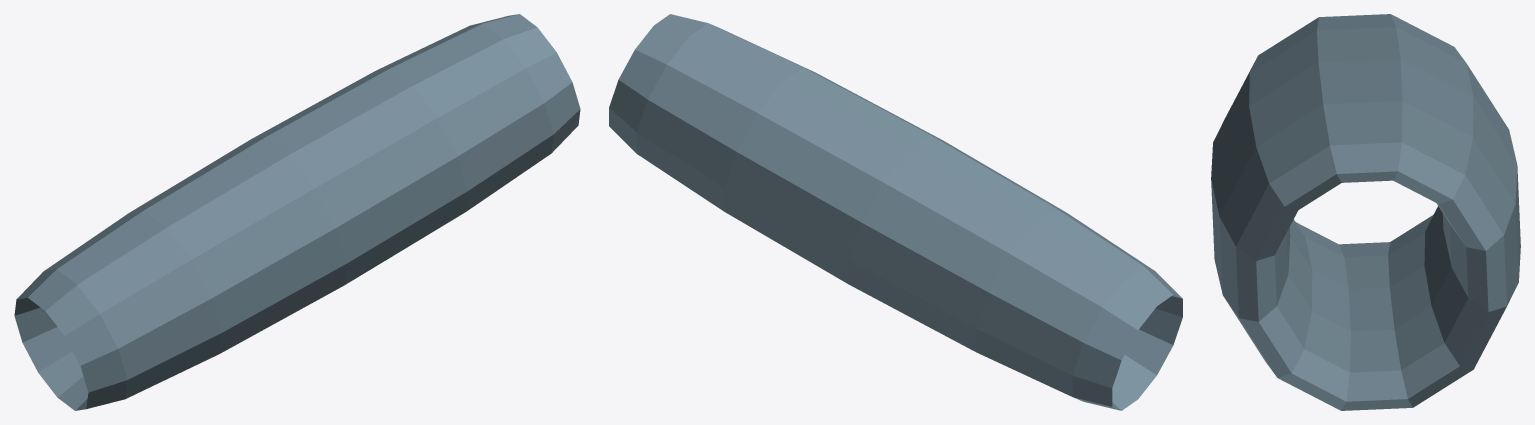
The model's file is astronaut_base_group276692338_lev4.glb.
3 views of the same model, side by side, from view 1: azimuth 30°, elevation 25°; view 2: azimuth 150°, elevation 25°; view 3: azimuth 270°, elevation 25° (orthographic). The views are drawn at different scales.
Visible parts, largest first — view 1: astronaut_base_group276692338_lev4; view 2: astronaut_base_group276692338_lev4; view 3: astronaut_base_group276692338_lev4.
Boxes of the visible parts, bbox=[...] form: astronaut_base_group276692338_lev4: bbox=[14, 14, 580, 410]; astronaut_base_group276692338_lev4: bbox=[609, 14, 1182, 410]; astronaut_base_group276692338_lev4: bbox=[1211, 14, 1520, 410].
Size of the model in its own units: 0.1872 by 0.0917 by 0.0524.
